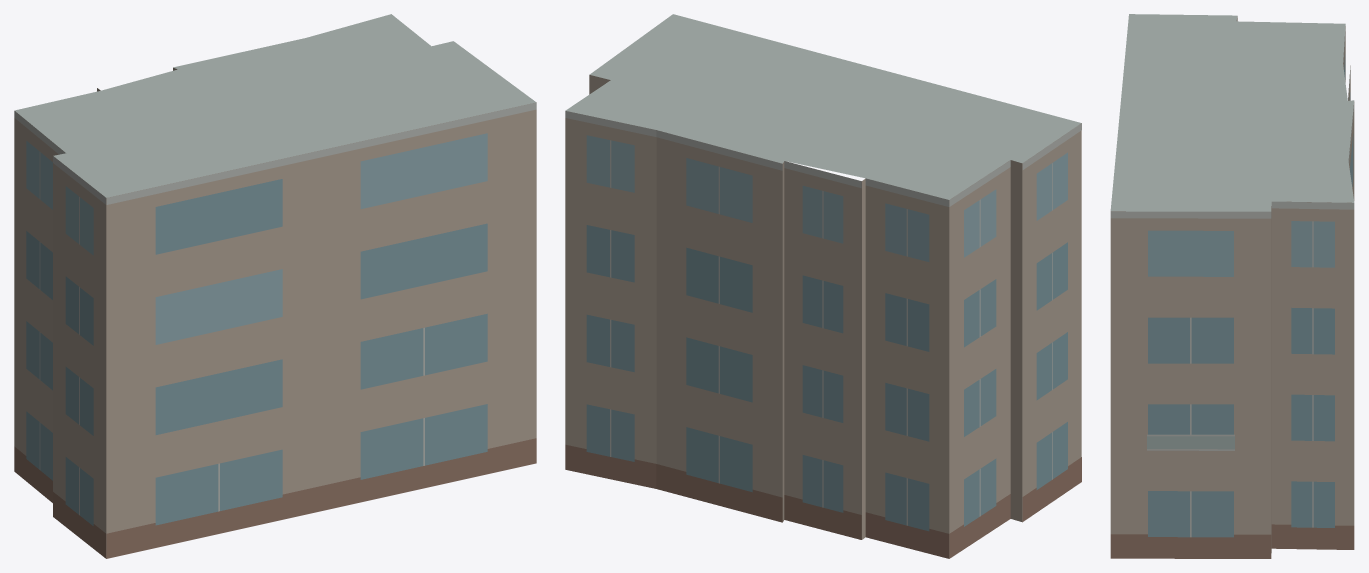
File: survey-upis-32637737.glb
3 renders of one model, left to right at view 1: azimuth 30°, elevation 25°; view 2: azimuth 150°, elevation 25°; view 3: azimuth 270°, elevation 25°, orthographic. The views are drawn at different scales.
Visible parts, largest first — view 1: survey-upis-32637737.tmp; view 2: survey-upis-32637737.tmp; view 3: survey-upis-32637737.tmp.
Boxes of the visible parts, bbox=[...] form: survey-upis-32637737.tmp: bbox=[14, 14, 536, 558]; survey-upis-32637737.tmp: bbox=[565, 14, 1081, 558]; survey-upis-32637737.tmp: bbox=[1110, 14, 1354, 558].
Size of the model in its own units: 15.01 by 12.26 by 7.82.
